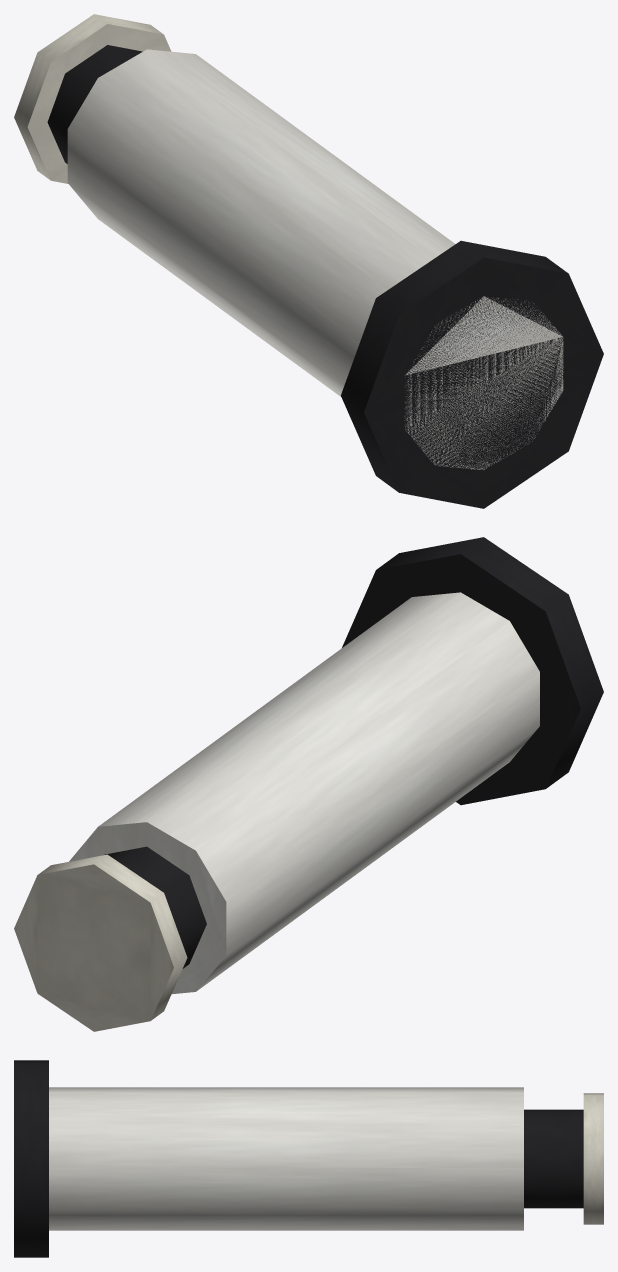
File: FK_BoilerFlue.fbx
The picture shows the model from 3 angles, top to bottom: view 1: azimuth 30°, elevation 25°; view 2: azimuth 150°, elevation 25°; view 3: azimuth 270°, elevation 25°; orthographic projection. The views are drawn at different scales.
Parts seen in each view (by area): view 1: FK_BoilerFlue; view 2: FK_BoilerFlue; view 3: FK_BoilerFlue.
Boxes of the visible parts, x1,y1,x2,y2 form: FK_BoilerFlue: (14, 14, 603, 508); FK_BoilerFlue: (14, 537, 603, 1031); FK_BoilerFlue: (14, 1060, 603, 1257).
Size of the model in its own units: 0.144 by 0.144 by 0.405.
Materials: 1 (1 with a texture image).
